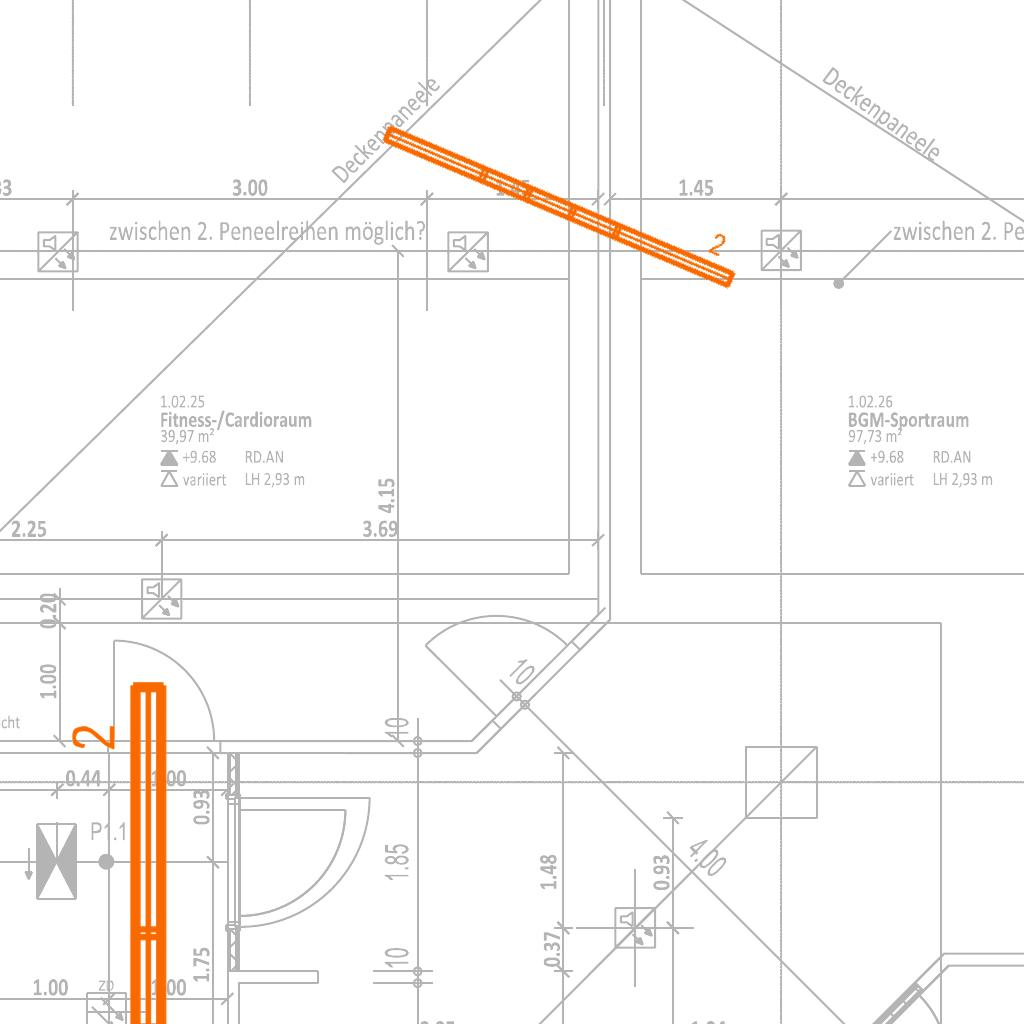Ambulanz_Pendelleuchte_LED: (374, 93, 753, 297), (67, 673, 179, 1024)
